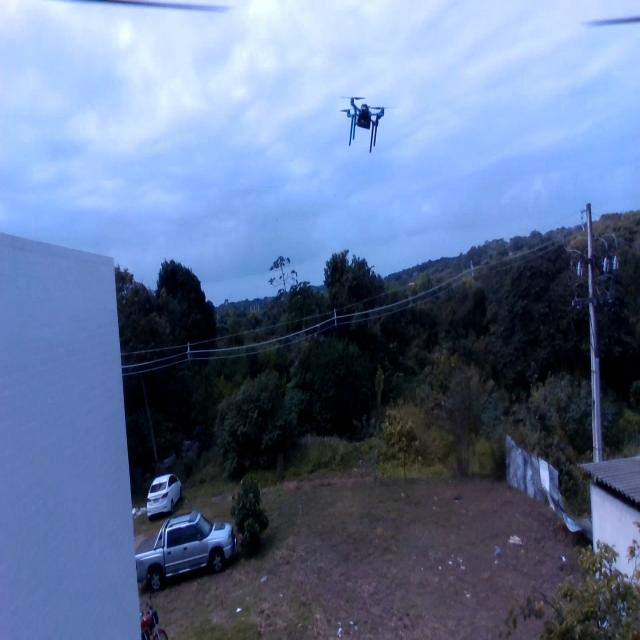-uav-: (339, 74, 397, 167)
